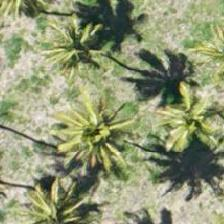coconut_tree: (53, 84, 143, 174), (38, 0, 128, 84), (159, 93, 223, 183), (10, 167, 100, 223), (0, 0, 78, 45)
